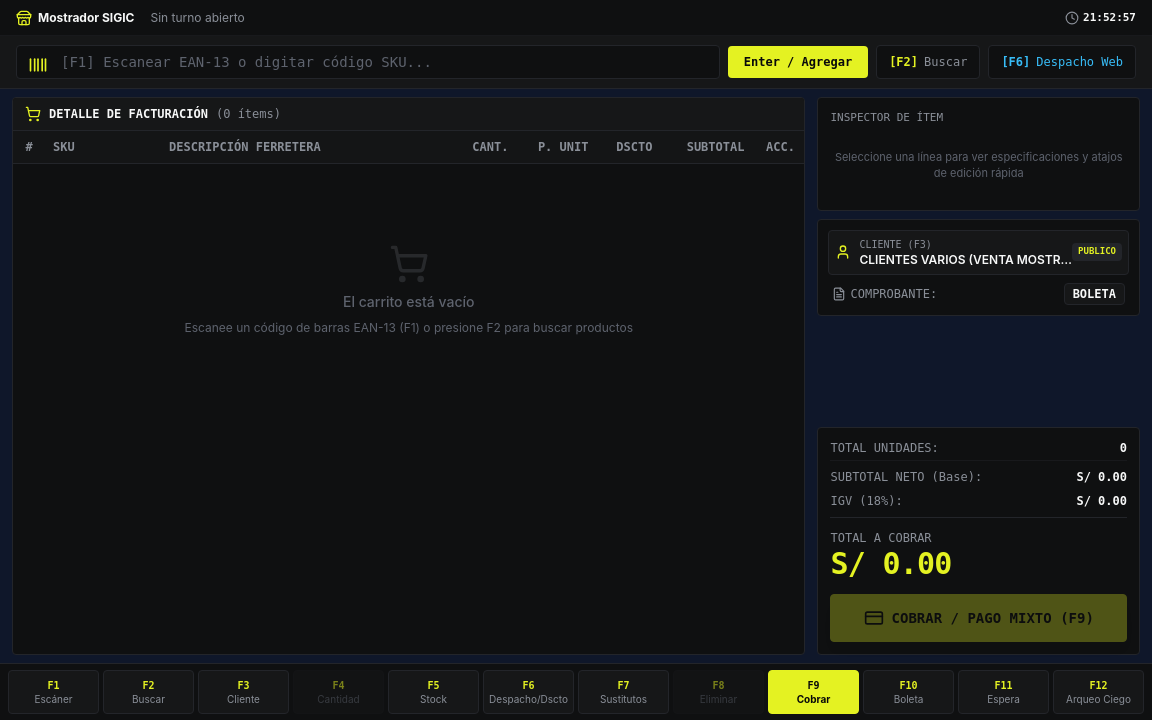
Test: Operaciones del Carrito de Ventas Mostrador (RF-POS-001, RF-POS-003, RF-POS-005) › permite editar la cantidad con F4 validando stock disponible
The width and height of the screenshot is (1152, 720).
Type "7751234000101" into the field with placeholder "[F1] Escanear EAN-13 o digitar código SKU..." at (368, 62), box [16, 45, 720, 79]
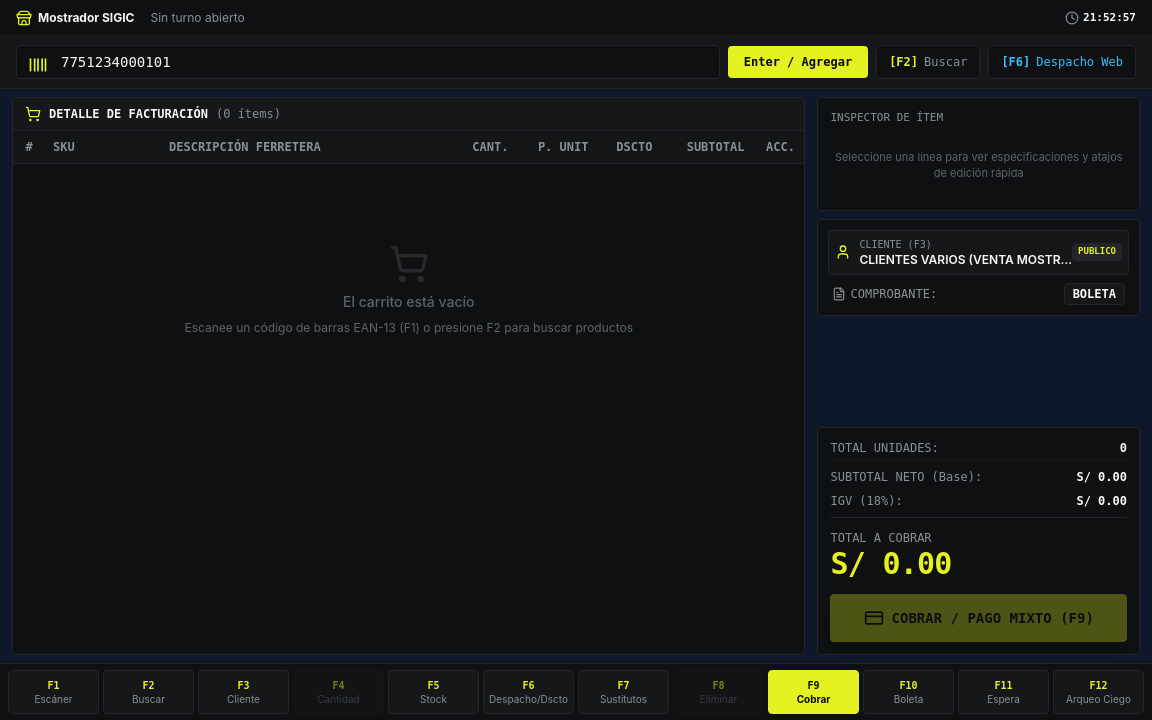
Submit the form with placeholder "Escanear EAN-13", box [16, 45, 868, 79]
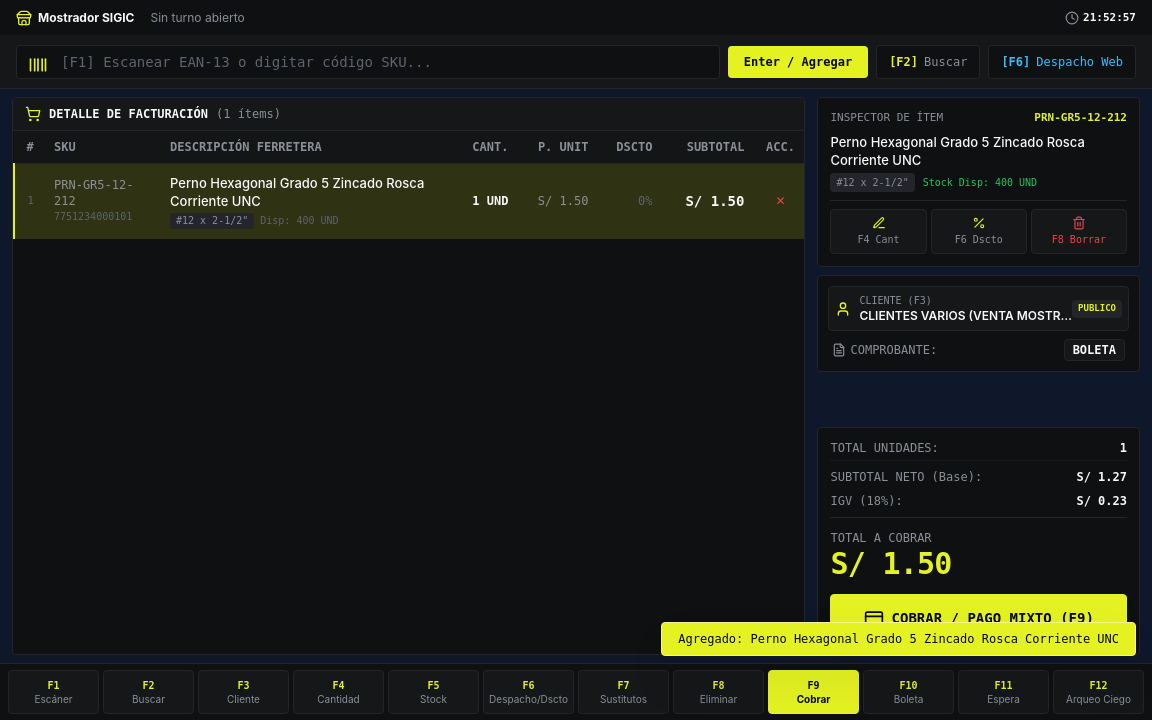
# Presionar F4 para editar cantidad
Press F4
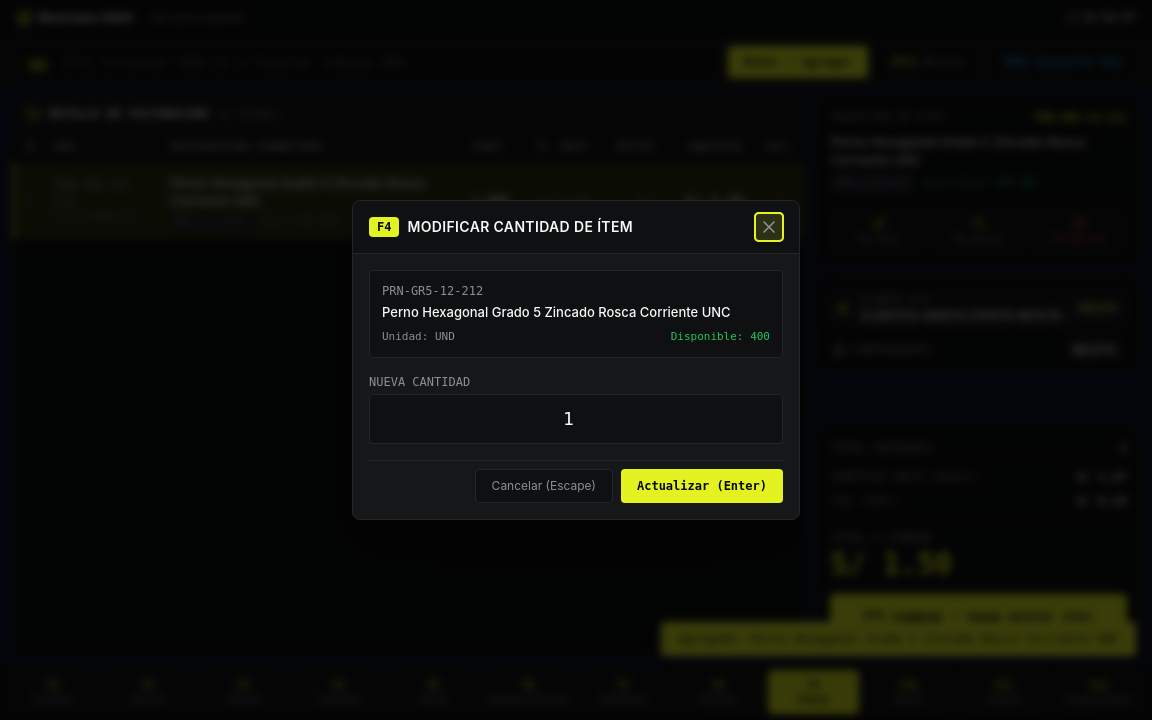
Now the heading "Modificar Cantidad de Ítem" is shown, box [408, 217, 633, 237]
Replace the text in the number field with test id "input-nueva-cantidad" with "10" at (576, 419), box [369, 394, 783, 444]
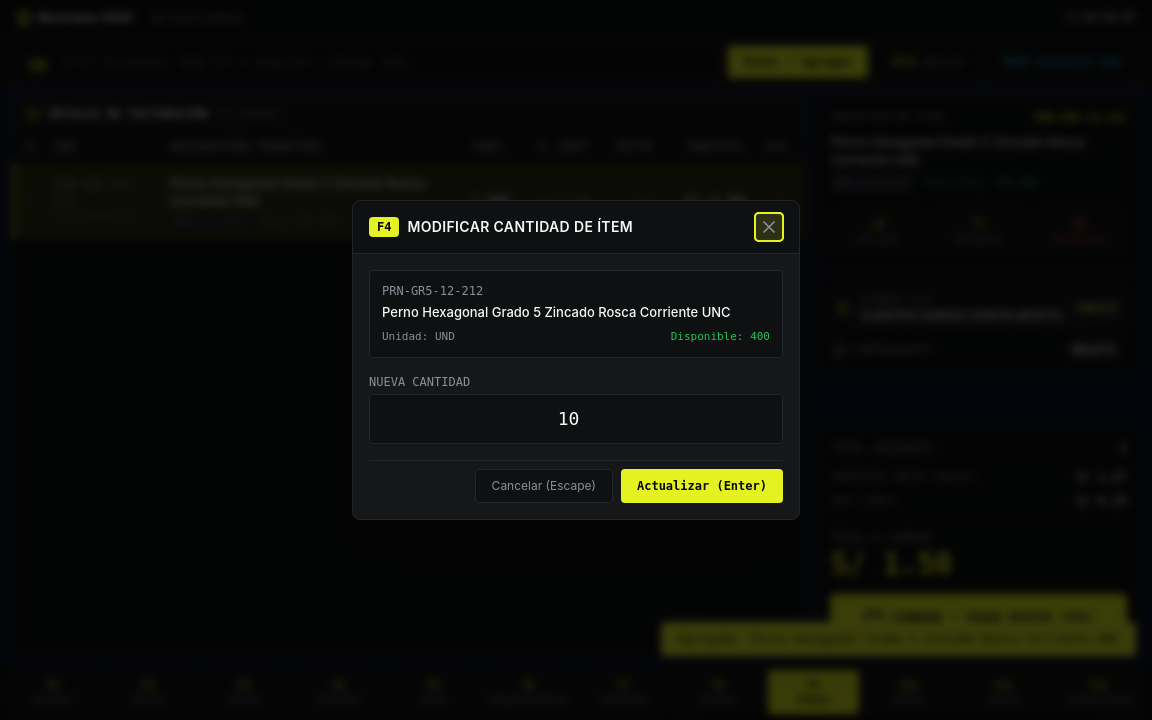
Click the button "Actualizar (Enter)" at (702, 486), box [621, 469, 783, 503]
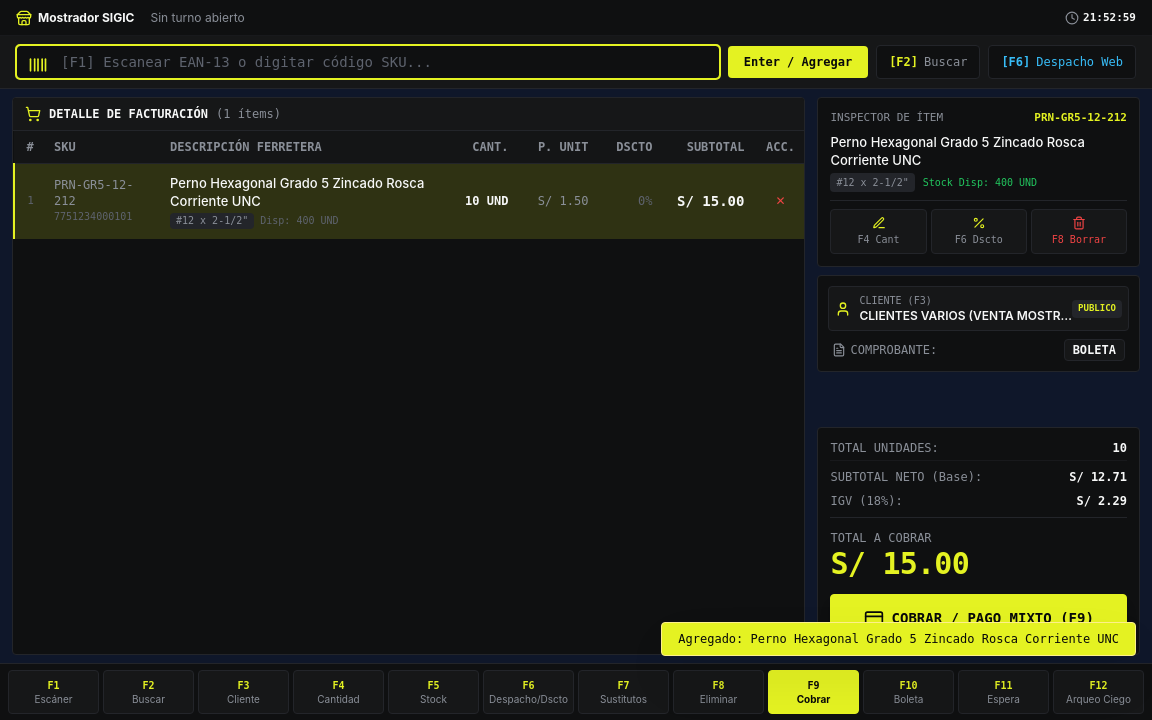
Now the text "S/ 15.00" is shown, box [660, 164, 756, 239]
